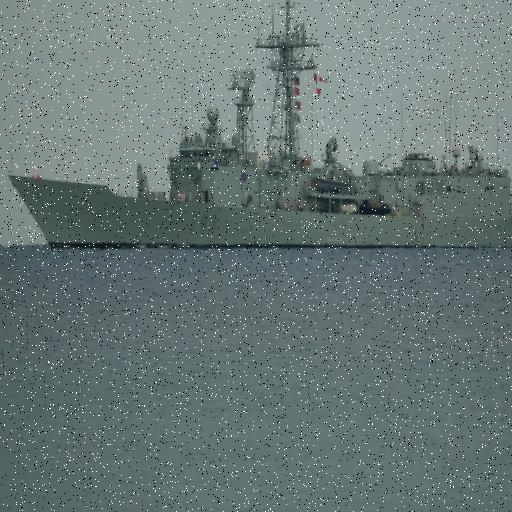Fragata: (7, 1, 512, 258)
